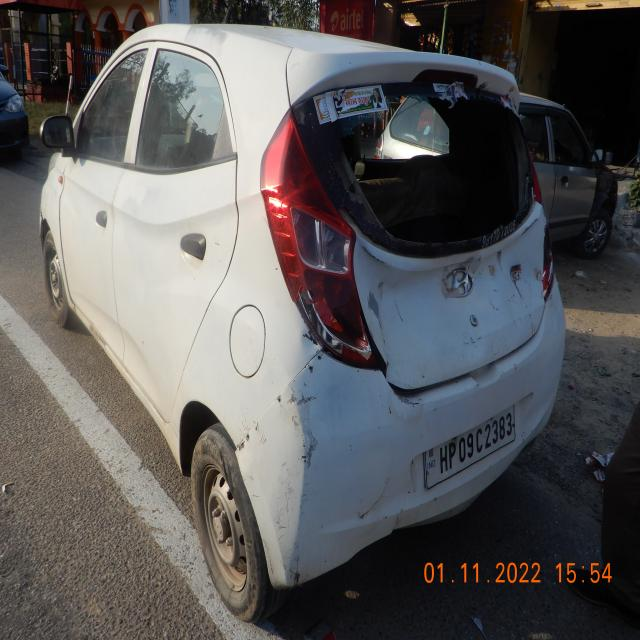damage: (357, 239, 540, 396), (275, 358, 323, 584), (117, 199, 233, 233), (70, 285, 117, 345), (124, 326, 162, 395), (357, 471, 397, 518), (66, 176, 111, 211), (233, 417, 267, 453), (238, 186, 256, 208), (302, 328, 319, 347)
